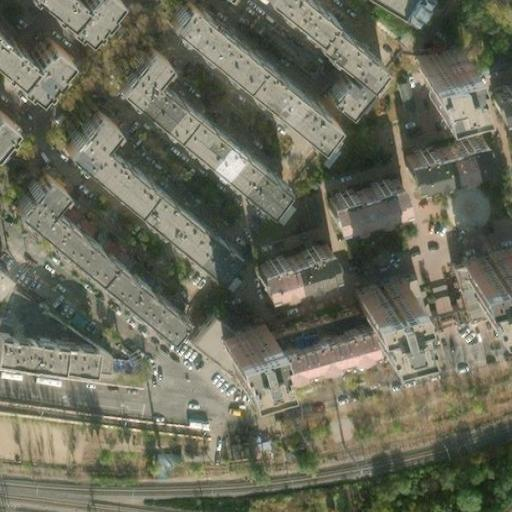building: (61, 124, 235, 290), (113, 57, 287, 223), (15, 186, 184, 347), (165, 13, 340, 161), (254, 307, 364, 380), (389, 128, 491, 205), (313, 36, 386, 102), (242, 225, 326, 282), (315, 165, 396, 215), (410, 35, 465, 96), (458, 241, 512, 301), (206, 303, 258, 362), (20, 56, 73, 112), (350, 274, 402, 330), (67, 0, 120, 53), (324, 82, 369, 127), (473, 291, 512, 330), (483, 81, 512, 121), (0, 110, 22, 160), (63, 354, 93, 376)
